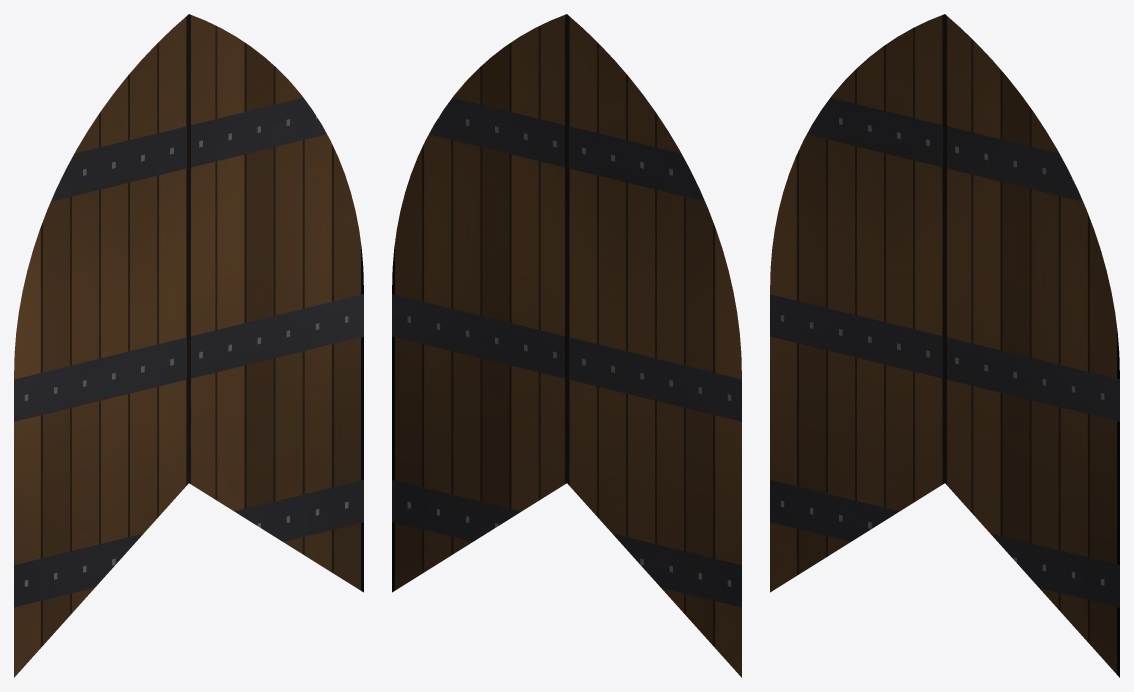
File: SM_dw_gate_door.glb
3 views of the same model, side by side, from view 1: azimuth 30°, elevation 25°; view 2: azimuth 150°, elevation 25°; view 3: azimuth 330°, elevation 25° (orthographic).
Visible parts, largest first — view 1: SM_dw_gate_door; view 2: SM_dw_gate_door; view 3: SM_dw_gate_door.
Boxes of the visible parts, x1=… form: SM_dw_gate_door: x1=14, y1=14, x2=363, y2=677; SM_dw_gate_door: x1=392, y1=14, x2=741, y2=677; SM_dw_gate_door: x1=770, y1=14, x2=1119, y2=677.
Size of the model in its own units: 7.1 by 12.05 by 0.
Materials: 1 (1 with a texture image).
